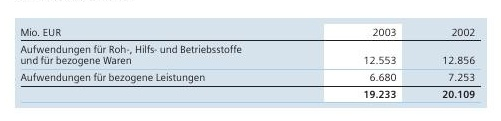table: (0, 0, 501, 121)
